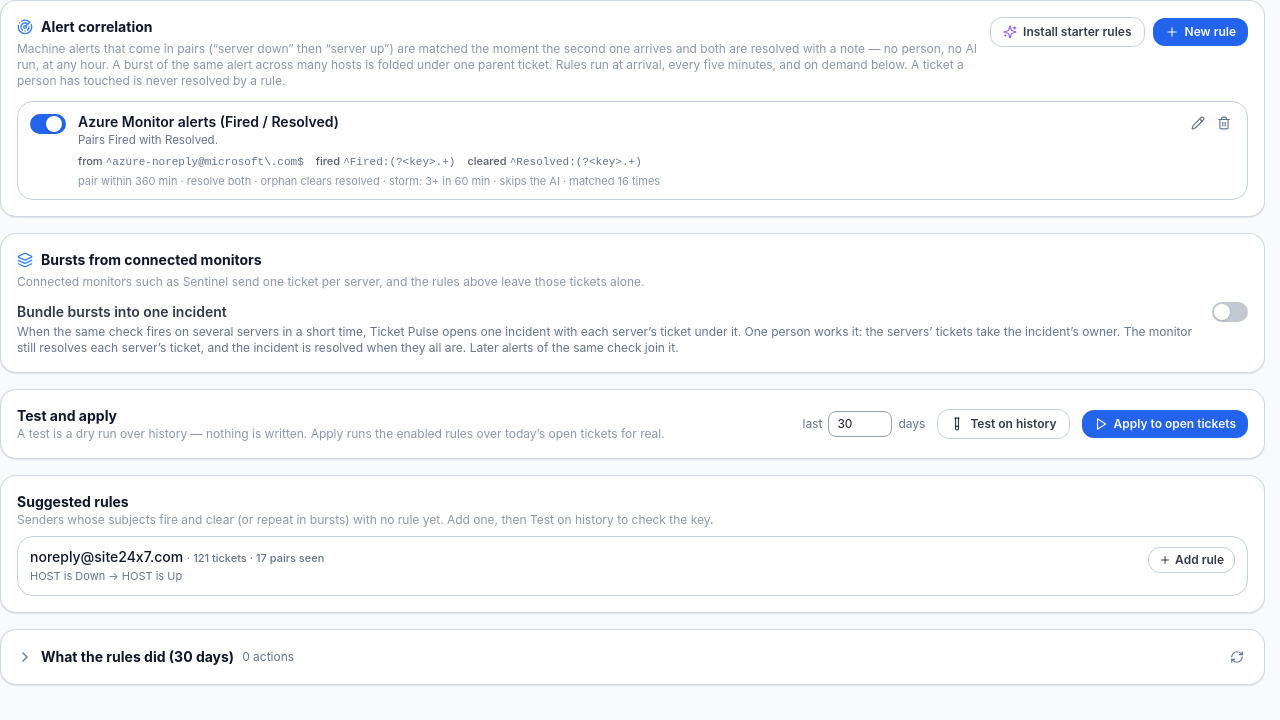
Test: AlertCorrelationPanel › a test on history is a dry run whose counts are shown; apply asks first
The width and height of the screenshot is (1280, 720).
Expected: the text "Azure Monitor alerts (Fired / Resolved)" is shown, [78,113,339,130]
Click the button "Test on history".
click(1003, 424)  # box [937,409,1070,439]
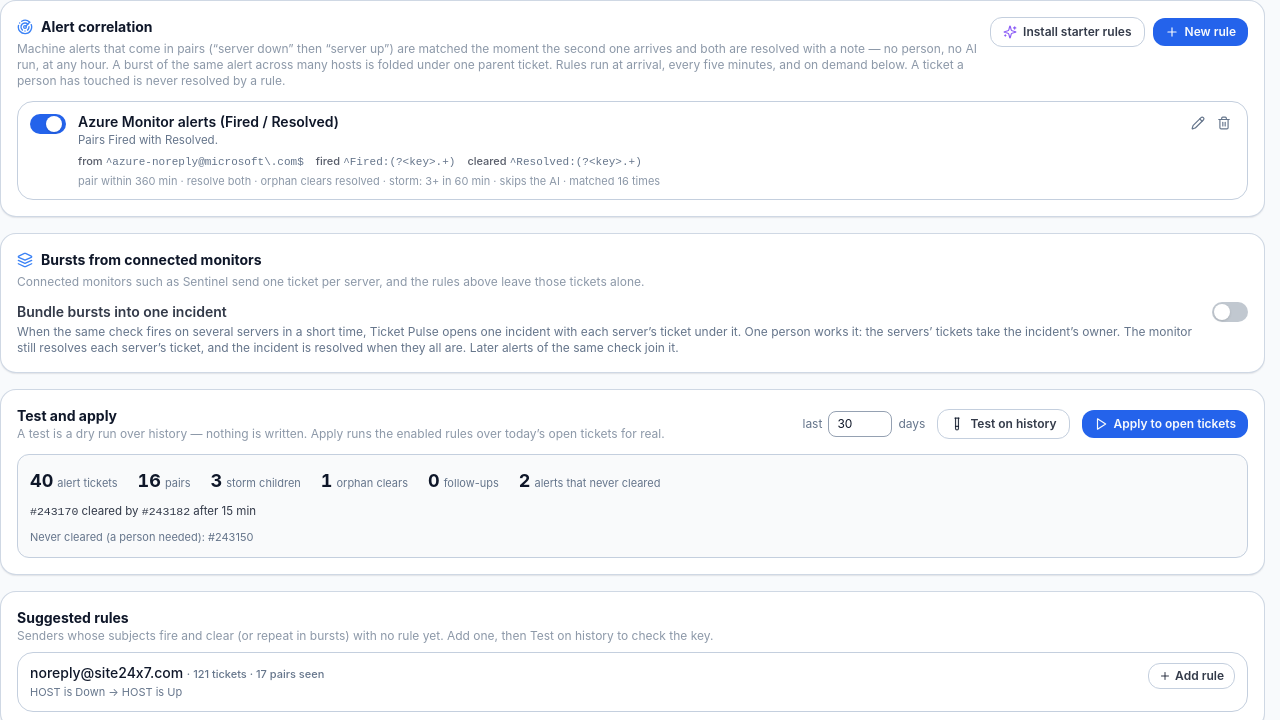
Now the element with test id "alert-preview" shows "#243170 cleared by #243182 after 15 min", box [17,454,1248,558]
Click the button with test id "alert-apply".
click(1165, 424)  # box [1082,410,1248,438]
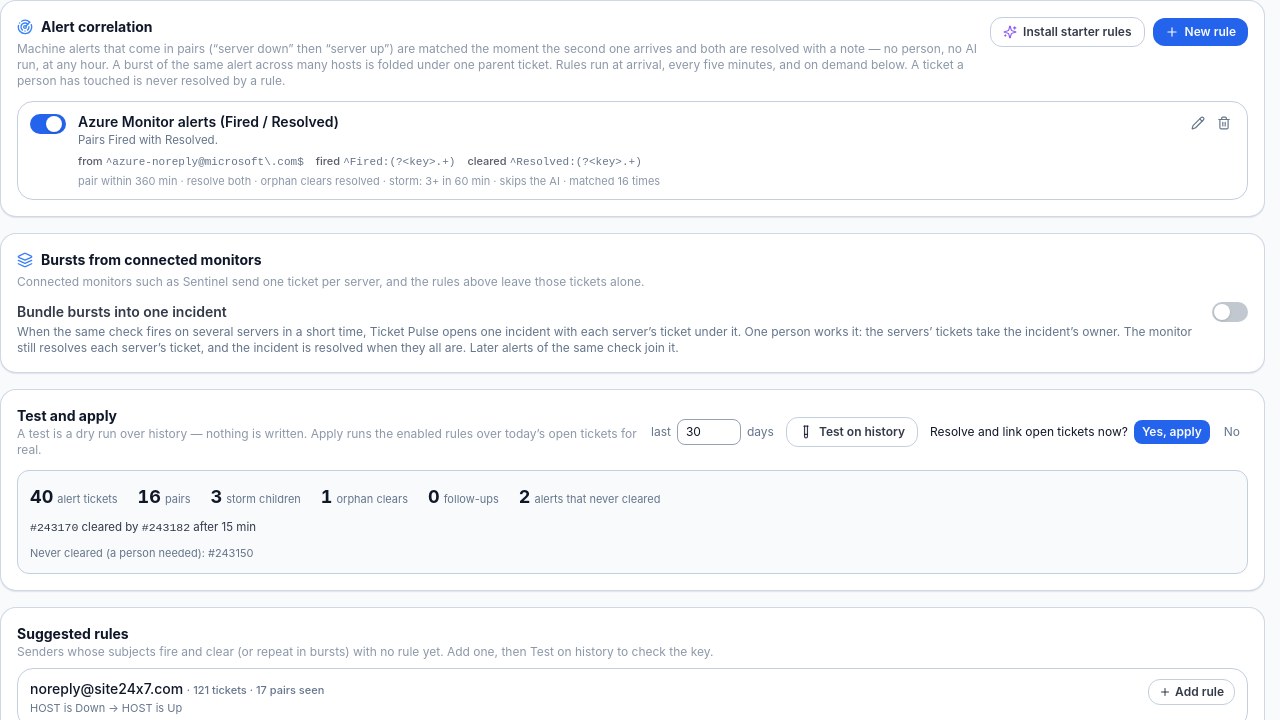
Click the button "Yes, apply".
click(1172, 432)  # box [1134,420,1210,444]
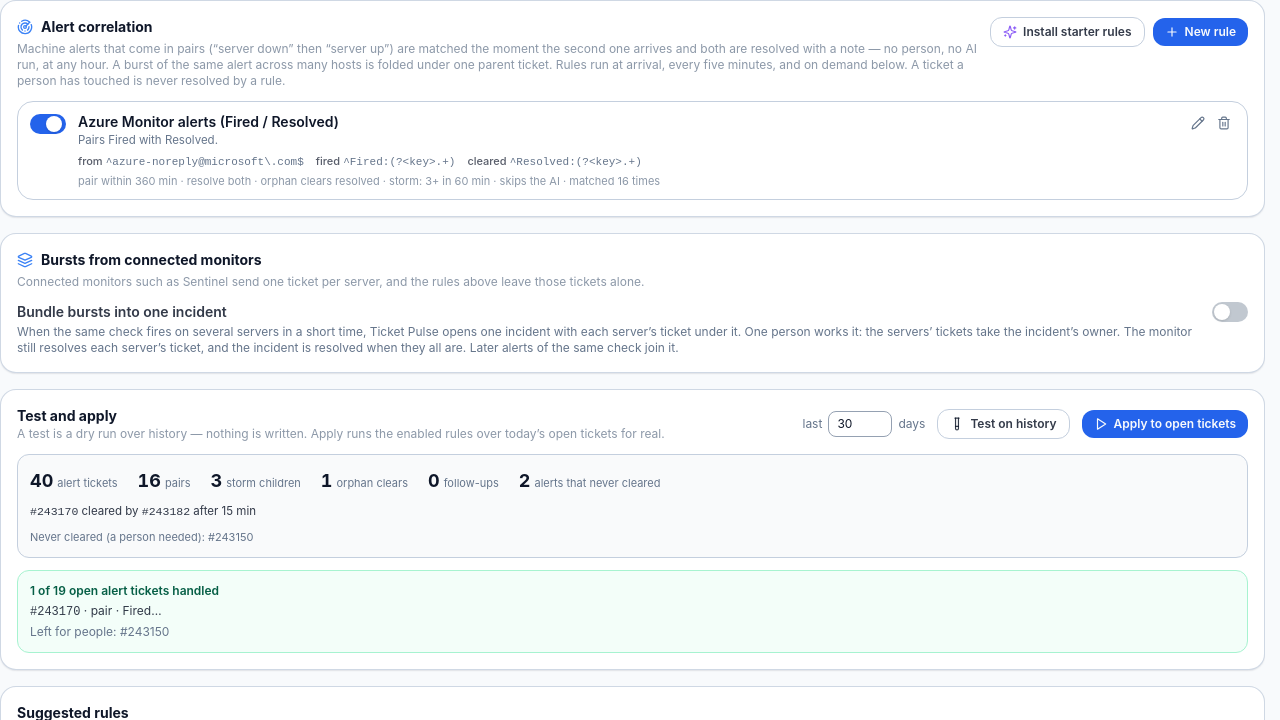
Now the element with test id "alert-apply-result" shows "1 of 19 open alert tickets handled", box [17,570,1248,653]
